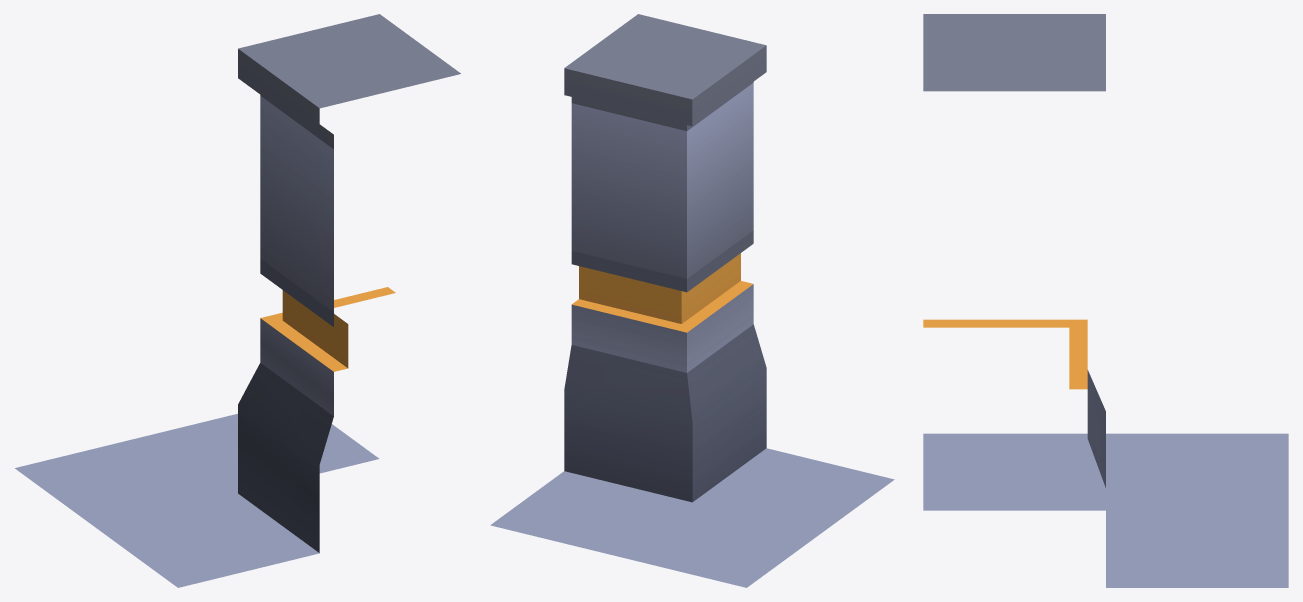
3 views of the same model, side by side, from view 1: azimuth 30°, elevation 25°; view 2: azimuth 150°, elevation 25°; view 3: azimuth 270°, elevation 25° (orthographic). The views are drawn at different scales.
Parts seen in each view (by area): view 1: structure_corner_outer; view 2: structure_corner_outer; view 3: structure_corner_outer.
Part boxes in pixels (x1,y1,x2,y2): structure_corner_outer: (15, 14, 460, 587); structure_corner_outer: (490, 14, 894, 587); structure_corner_outer: (923, 14, 1288, 587).
Bounding box in the file's own units: 2 × 3 × 2.
Materials: 1 (1 with a texture image).
